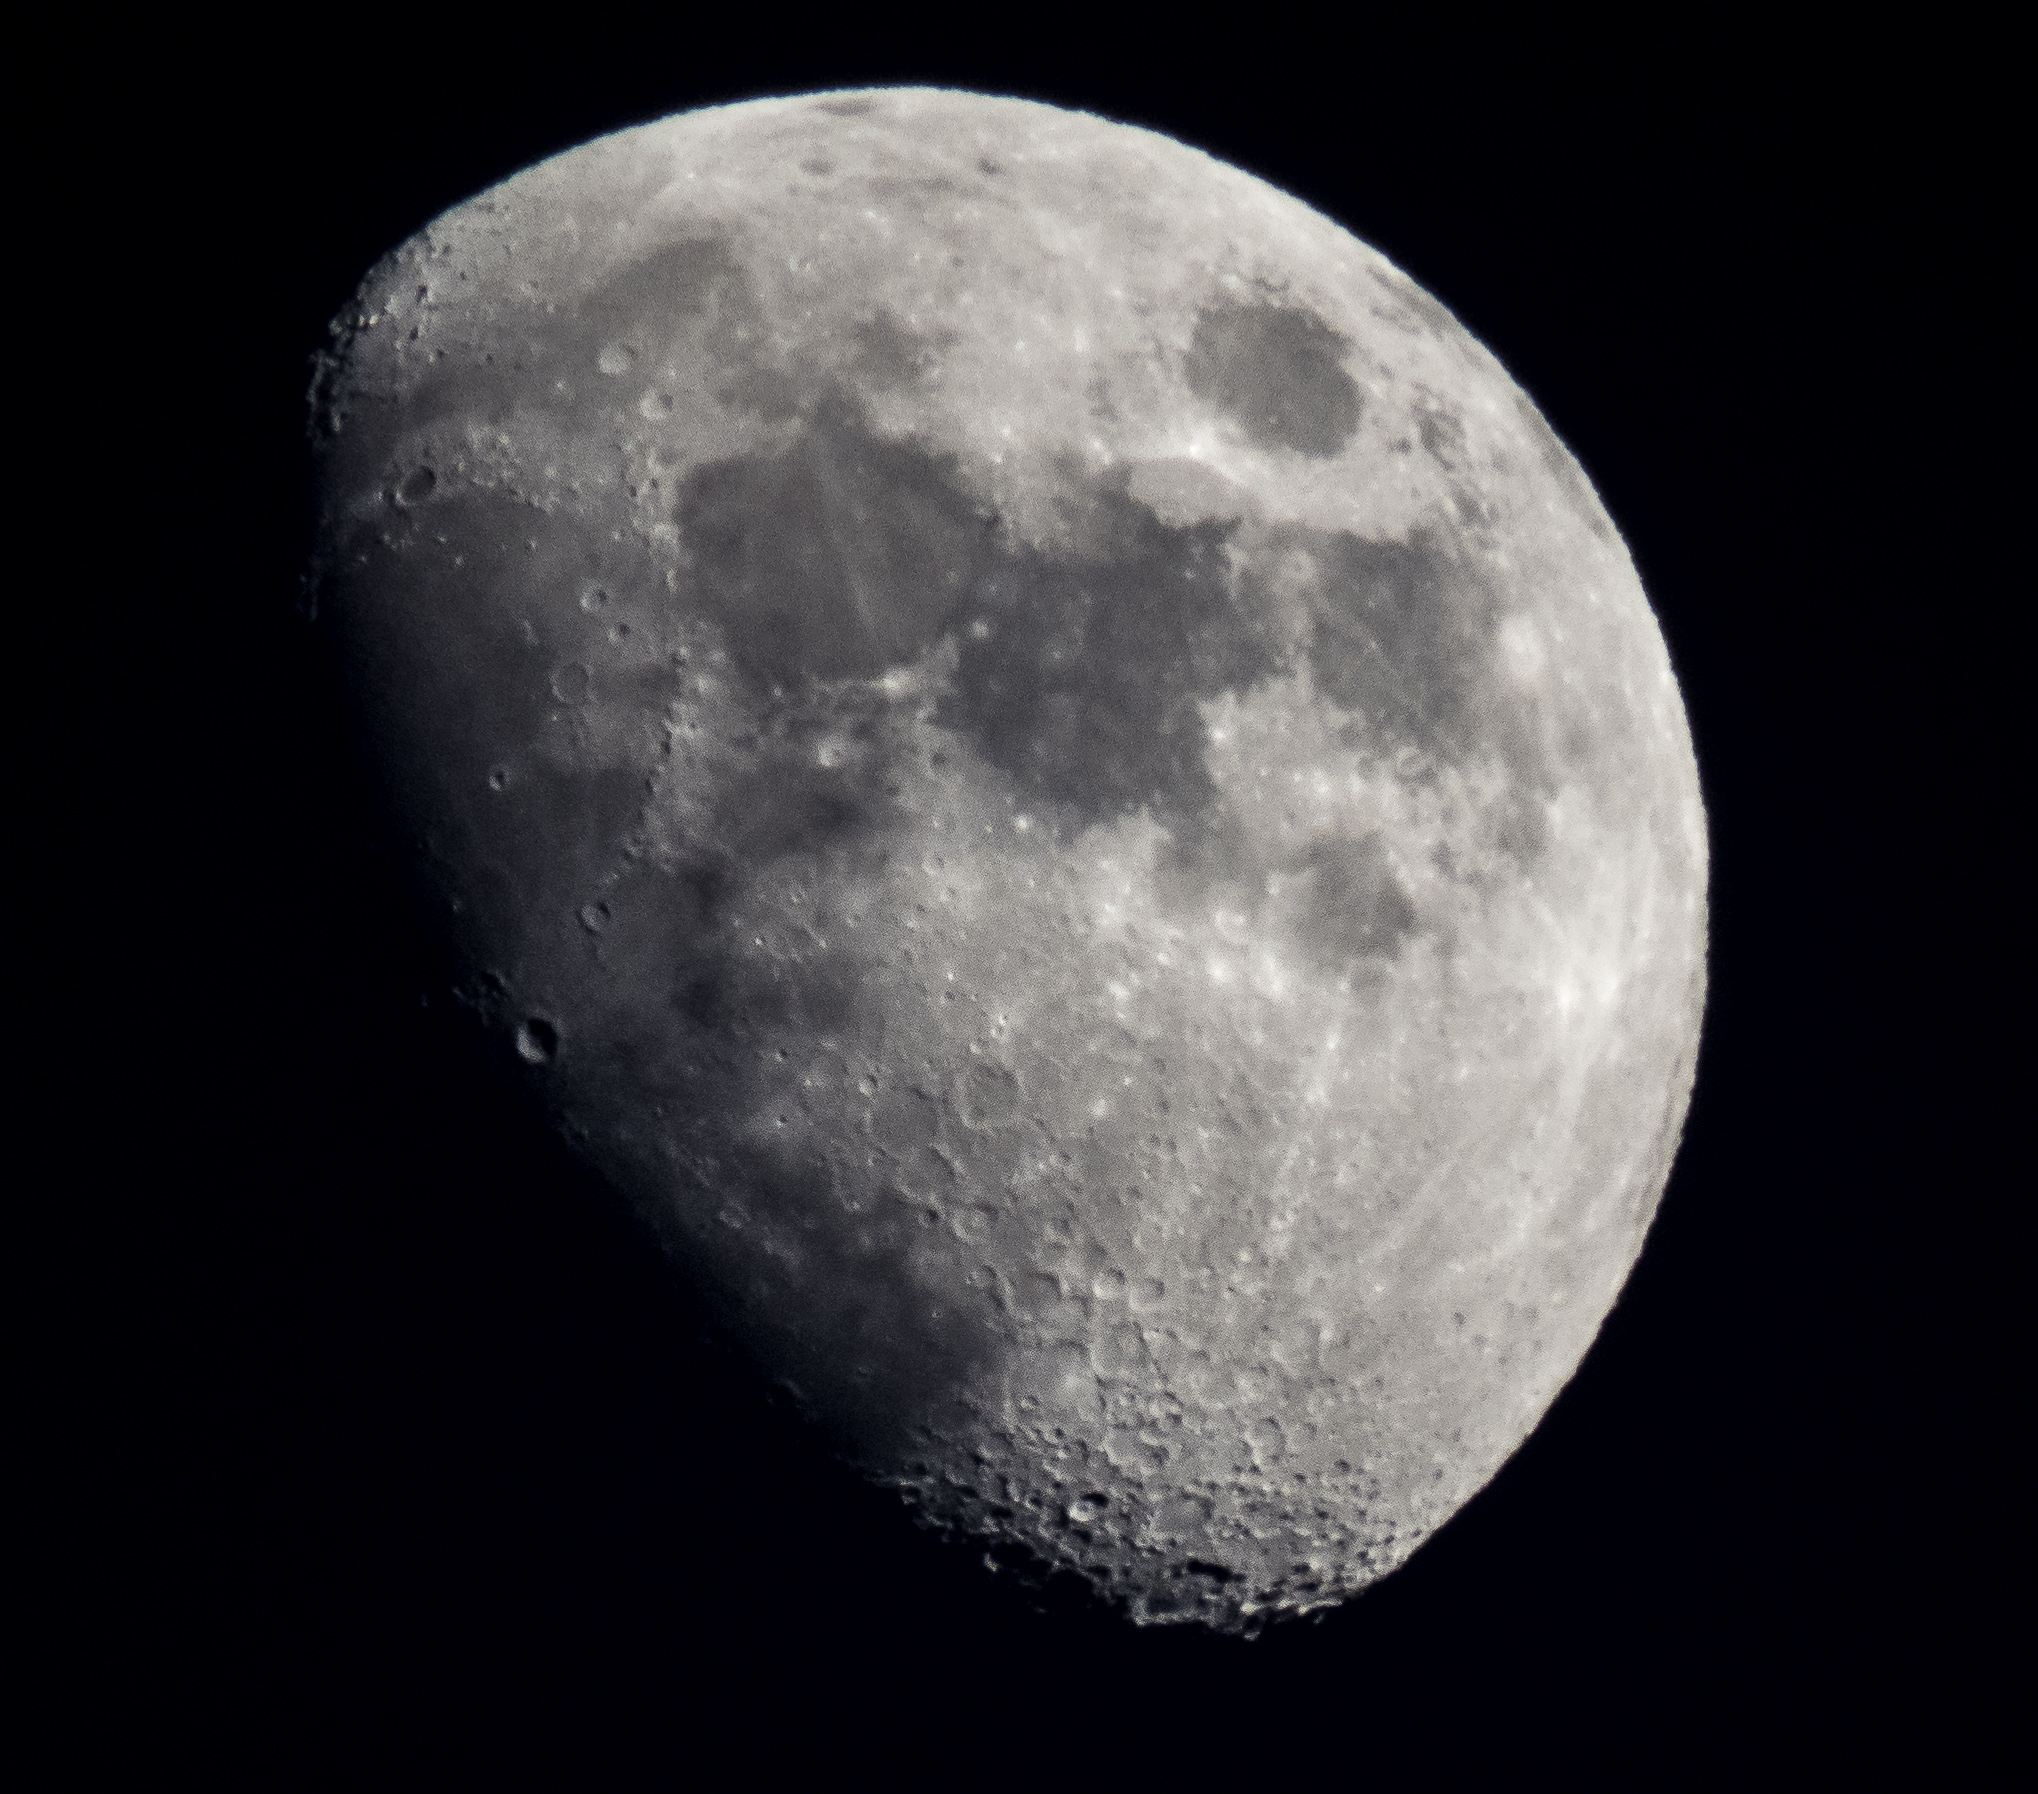crater: (490, 971, 645, 1097), (944, 1028, 1061, 1151), (530, 317, 664, 388), (373, 445, 456, 529), (783, 95, 920, 146), (535, 652, 626, 725), (561, 886, 648, 950), (944, 135, 1035, 192), (769, 146, 860, 194), (468, 744, 537, 804), (563, 565, 622, 621)
